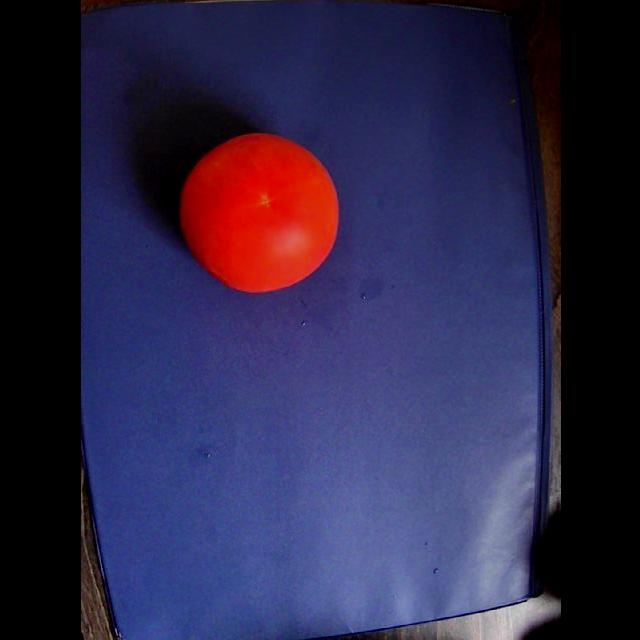tomate: (180, 133, 337, 292)
